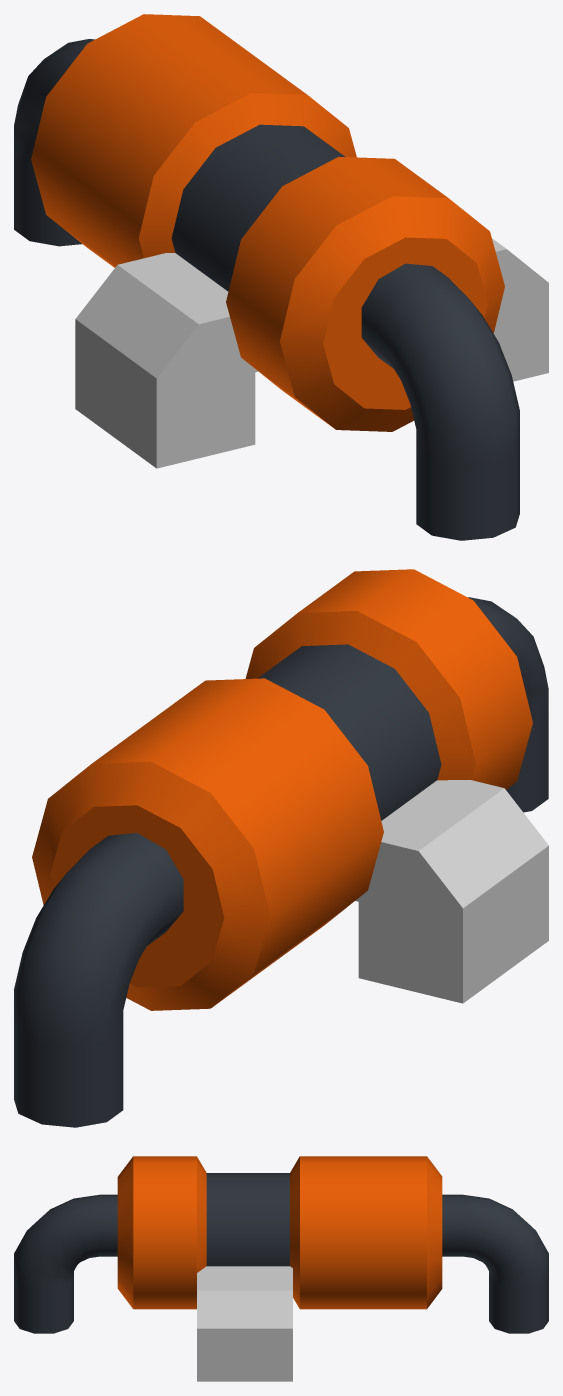
3 views of the same model, one above another, from view 1: azimuth 30°, elevation 25°; view 2: azimuth 150°, elevation 25°; view 3: azimuth 270°, elevation 25° (orthographic). The views are drawn at different scales.
Visible parts, largest first — view 1: Cylinder_01; view 2: Cylinder_01; view 3: Cylinder_01.
Part boxes in pixels (bbox=[...]): Cylinder_01: bbox=[14, 14, 548, 540]; Cylinder_01: bbox=[14, 569, 548, 1127]; Cylinder_01: bbox=[14, 1156, 548, 1381].
Bounding box in the file's own units: 8.3 × 5.41 × 16.6.
